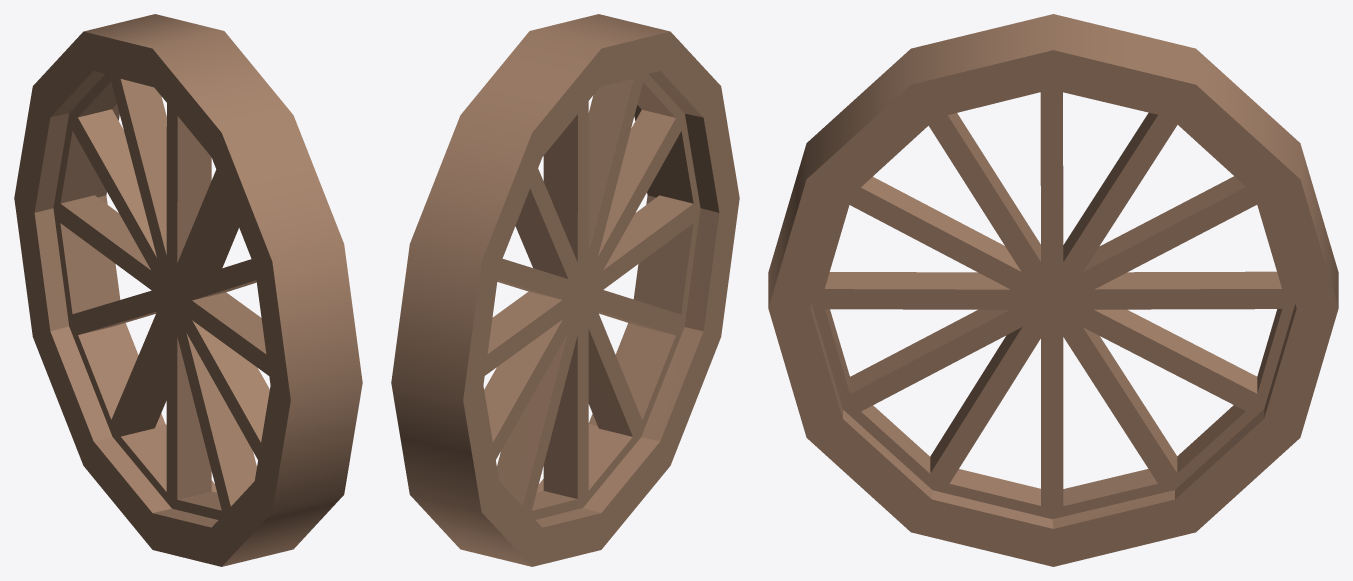
File: Dest_Arena_Cart_Wheel.FBX
The picture shows the model from 3 angles, left to right: view 1: azimuth 30°, elevation 25°; view 2: azimuth 150°, elevation 25°; view 3: azimuth 270°, elevation 25°; orthographic projection. The views are drawn at different scales.
Visible parts, largest first — view 1: Cylinder003; view 2: Cylinder003; view 3: Cylinder003.
Part boxes in pixels (x1,y1,x2,y2): Cylinder003: (14,14,362,566); Cylinder003: (391,14,739,566); Cylinder003: (768,14,1338,566).
Size of the model in its own units: 1.5 by 10 by 10.
